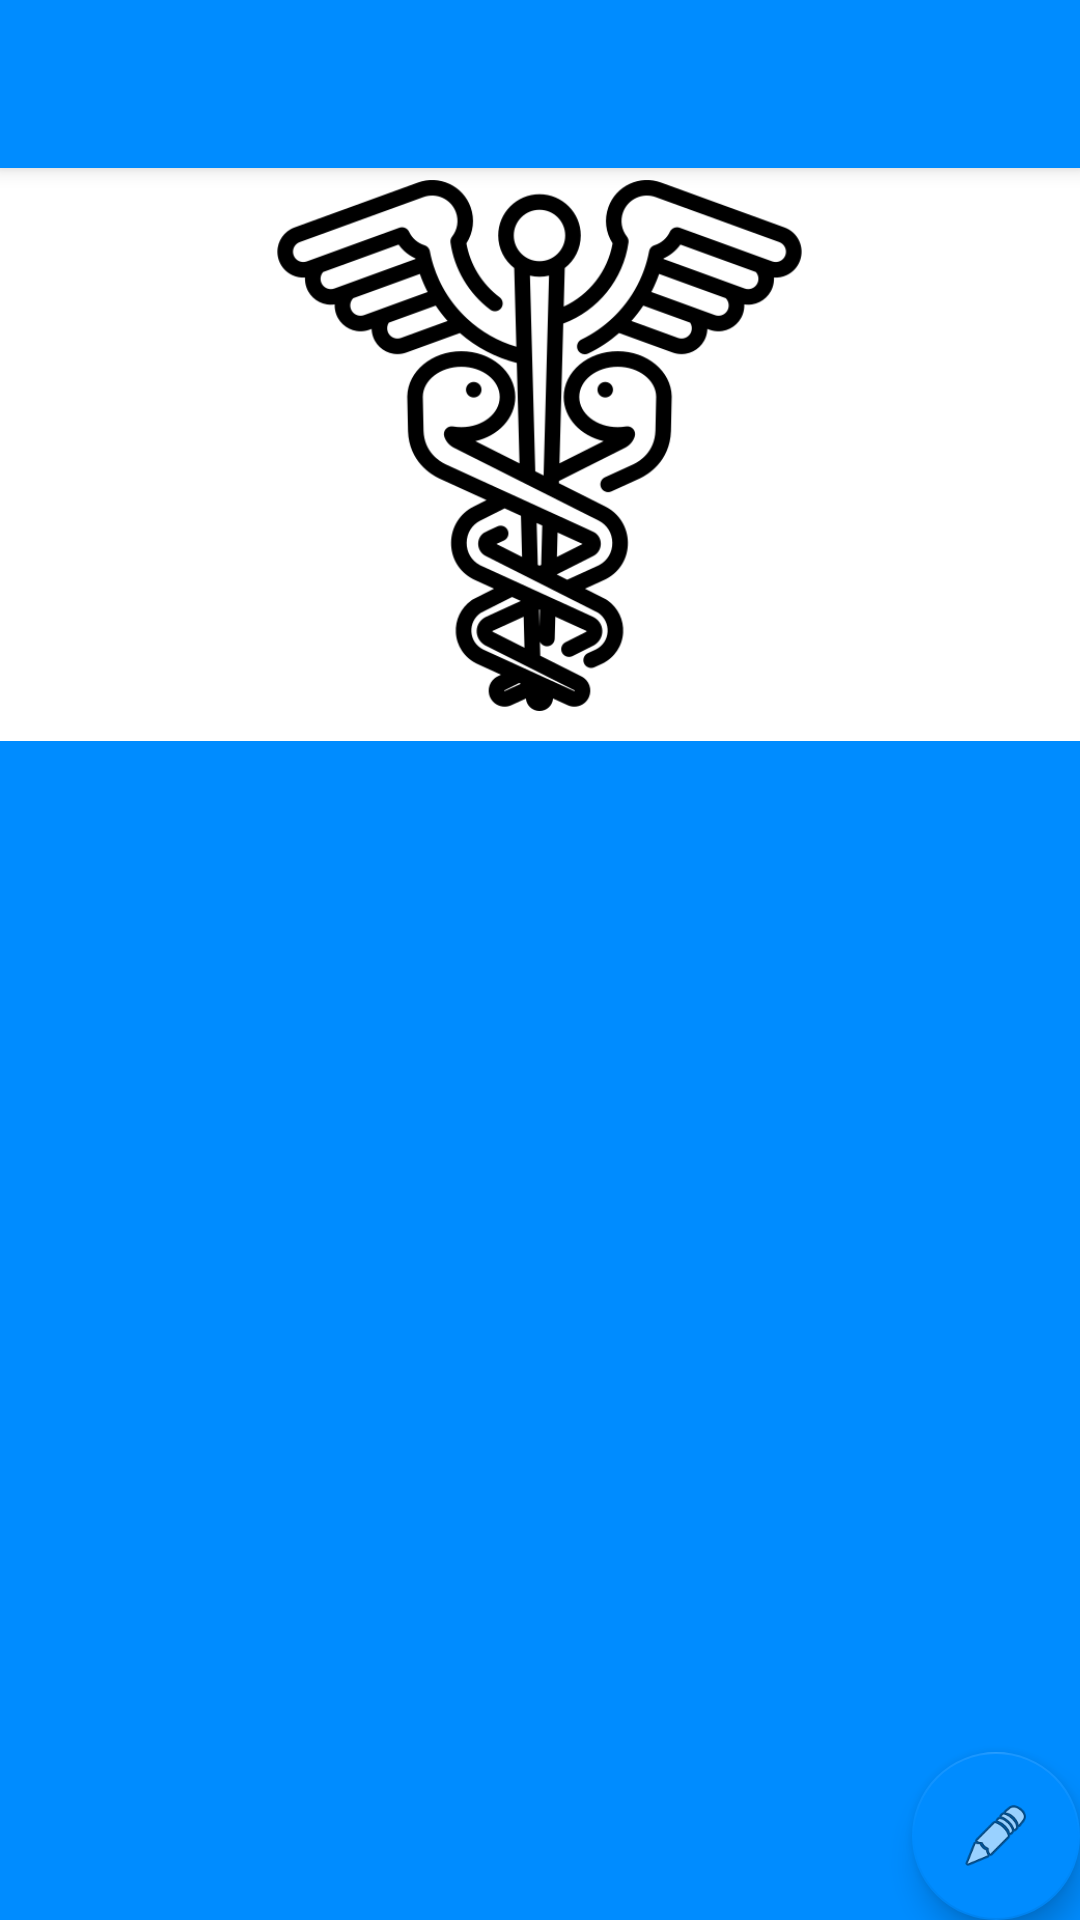

Icon bounding boxes for this 1080×1920 phone screenshot, format [left=x1, top=y1, right=x2, bottom=y2]:
edit: [left=918, top=1752, right=1080, bottom=1920]
